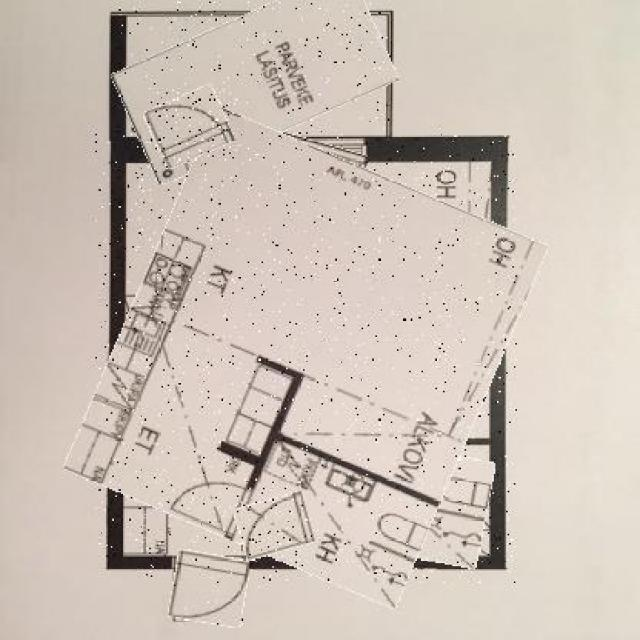door: (150, 90, 232, 164), (171, 552, 246, 625), (237, 495, 312, 557)
window: (228, 128, 368, 170)
zone: (95, 134, 517, 583), (117, 0, 392, 160), (311, 438, 492, 562)
